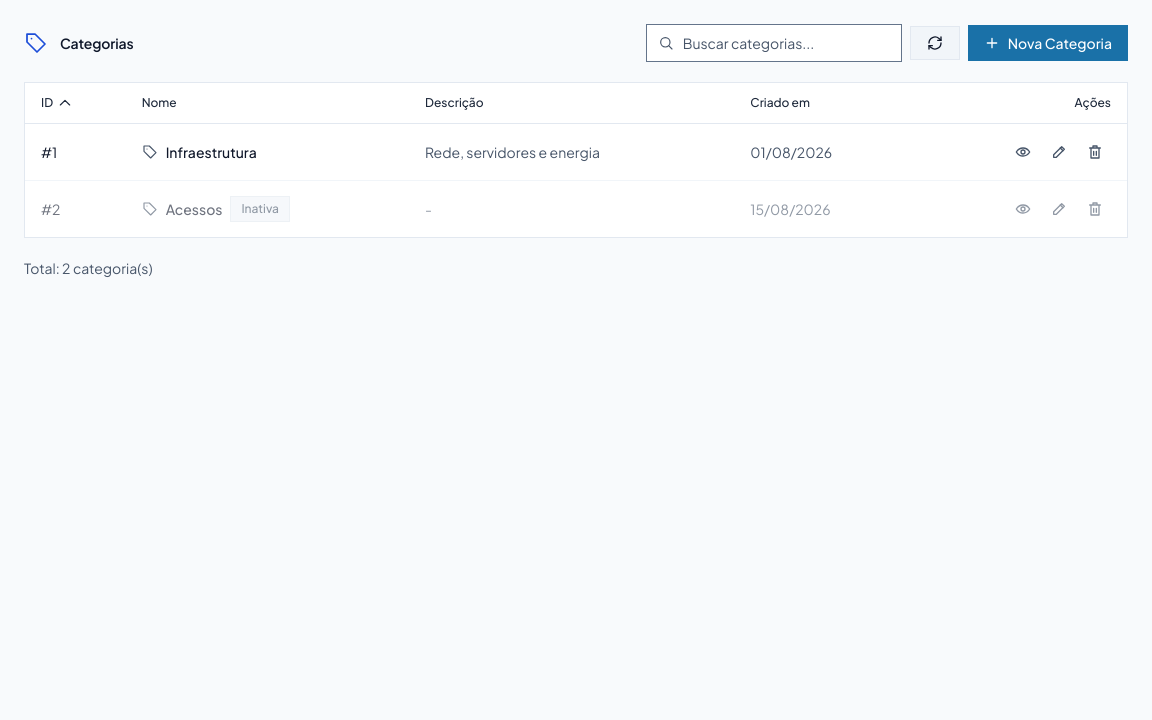
CategoriasTab — checklist da §29 › abre criar, editar e visualizar
Click the button named "Visualizar Infraestrutura". click: (1023, 152)
box: [1007, 136, 1039, 168]
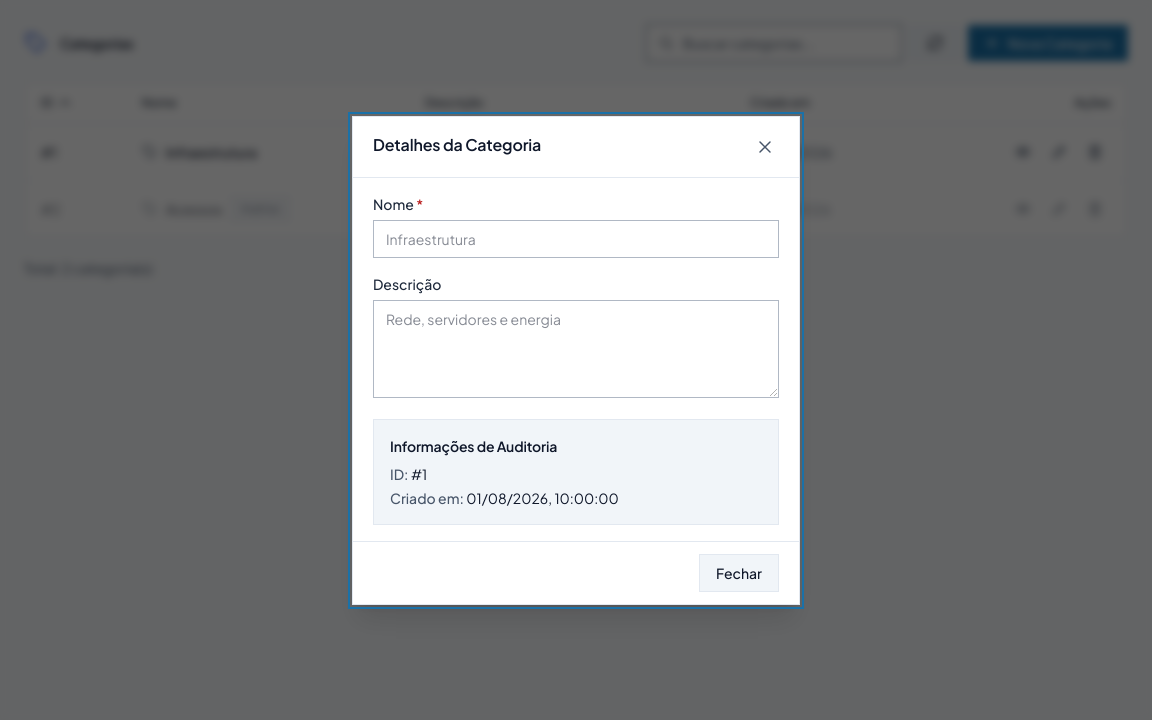
Result: the dialog is shown at [352, 116, 800, 604]
